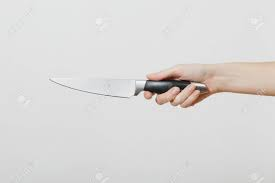knife: (46, 73, 213, 101)
